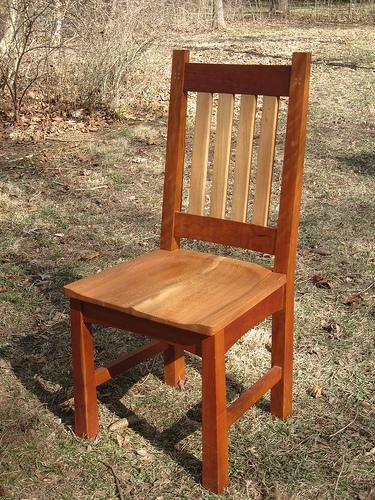obstacle: (65, 50, 310, 492)
